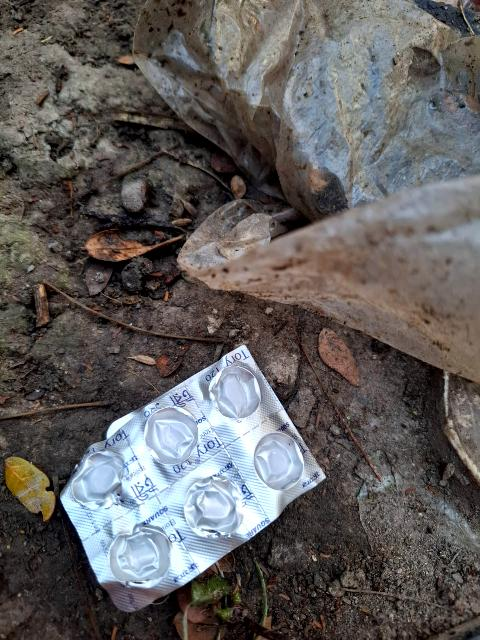medicine: (25, 349, 335, 631)
